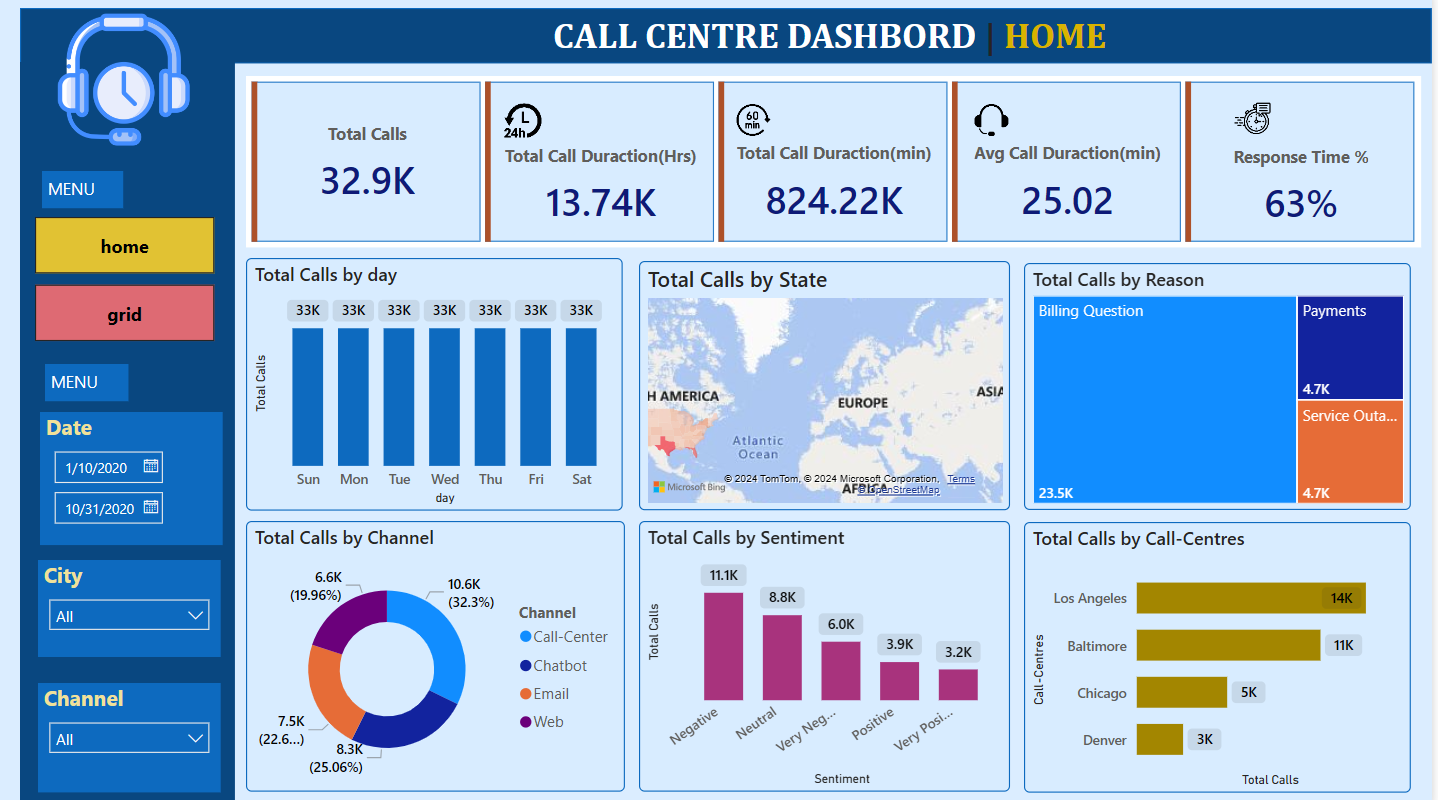

The page's visual inventory and layout, read from the dashboard file:
{"tool":"powerbi","page":{"name":"home","canvas":[1280,720],"ordinal":0},"visuals":[{"type":"shape","box":[28.8,12.3,1251.8,49.4],"z":0},{"type":"shape","box":[28.8,60.3,190.6,659.5],"z":1000},{"type":"cardVisual","fields":{"Data":["Call Center_Call Center.Total Calls","Call Center_Call Center.Total Call Duraction(Hrs)","Call Center_Call Center.Total Call Duraction(min)","Call Center_Call Center.Avg Call Duraction(min)","Call Center_Call Center.Response Time %"]},"box":[229,72.7,1042,152.2],"z":2000},{"type":"columnChart","fields":{"Y":["Call Center_Call Center.Total Calls"],"Category":["Day Table.day"]},"box":[229.1,234,334.1,224.3],"z":3000},{"type":"filledMap","fields":{"Category":["Call Center_Call Center.State"]},"box":[577.2,237.2,329.1,220.7],"z":4000},{"type":"treemap","fields":{"Group":["Call Center_Call Center.Reason"],"Values":["Call Center_Call Center.Total Calls"]},"box":[918.6,238.6,342.8,219.4],"z":5000},{"type":"donutChart","fields":{"Category":["Call Center_Call Center.Channel"],"Y":["Call Center_Call Center.Total Calls"]},"box":[229,467.5,335.9,239.9],"z":6000},{"type":"columnChart","fields":{"Category":["Call Center_Call Center.Sentiment"],"Y":["Call Center_Call Center.Total Calls"]},"box":[577.2,467.5,329.1,239.9],"z":7000},{"type":"barChart","fields":{"Y":["Call Center_Call Center.Total Calls"],"Category":["Call Center_Call Center.Call-Centres City"]},"box":[919,468,343,240],"z":8000},{"type":"textbox","box":[479.9,13.7,533.3,48],"z":9000},{"type":"slicer","title":"Date","fields":{"Values":["Day Table.Date"]},"box":[46.2,370.8,162.3,117.6],"z":10000},{"type":"slicer","title":"City","fields":{"Values":["Call Center_Call Center.City"]},"box":[44.7,501.8,162.3,86.4],"z":11000},{"type":"slicer","title":"Channel","fields":{"Values":["Call Center_Call Center.Channel"]},"box":[44.7,610.5,162.3,96.8],"z":12000},{"type":"image","box":[39.8,12.1,161.6,126.6],"z":13000},{"type":"pageNavigator","box":[41.7,198,159.3,110.2],"z":14000},{"type":"textbox","box":[48.2,156.8,72.4,32.6],"z":15000},{"type":"textbox","box":[50.7,328,73.6,32.6],"z":16000}]}

Visuals, with their boxes in screenshot pixels (x1, y1, x2, y2), scaled from the page's 1280x720 canvas onto the 1438x800 screenshot:
shape: rect(32, 14, 1437, 69)
shape: rect(32, 67, 246, 799)
cardVisual - Call Center_Call Center.Total Calls x Call Center_Call Center.Total Call Duraction(Hrs): rect(257, 81, 1428, 250)
columnChart - Call Center_Call Center.Total Calls x Day Table.day: rect(257, 260, 633, 509)
filledMap - Call Center_Call Center.State: rect(648, 264, 1018, 509)
treemap - Call Center_Call Center.Reason x Call Center_Call Center.Total Calls: rect(1032, 265, 1417, 509)
donutChart - Call Center_Call Center.Channel x Call Center_Call Center.Total Calls: rect(257, 519, 635, 786)
columnChart - Call Center_Call Center.Sentiment x Call Center_Call Center.Total Calls: rect(648, 519, 1018, 786)
barChart - Call Center_Call Center.Total Calls x Call Center_Call Center.Call-Centres City: rect(1032, 520, 1418, 787)
textbox: rect(539, 15, 1138, 69)
"Date" slicer: rect(52, 412, 234, 543)
"City" slicer: rect(50, 558, 233, 654)
"Channel" slicer: rect(50, 678, 233, 786)
image: rect(45, 13, 226, 154)
pageNavigator: rect(47, 220, 226, 342)
textbox: rect(54, 174, 135, 210)
textbox: rect(57, 364, 140, 401)
